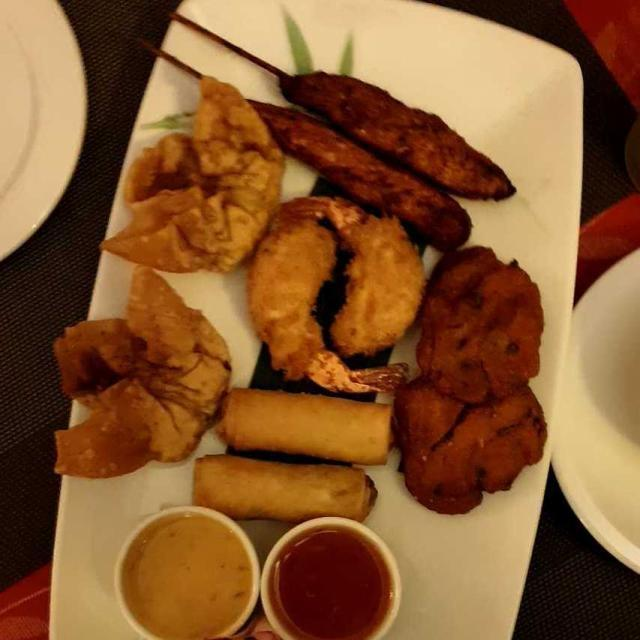chicken: (262, 69, 521, 235)
sauce: (119, 525, 244, 638), (278, 533, 396, 634)
shrimp: (244, 216, 428, 390)
spring-roll-fried: (190, 387, 407, 518)
